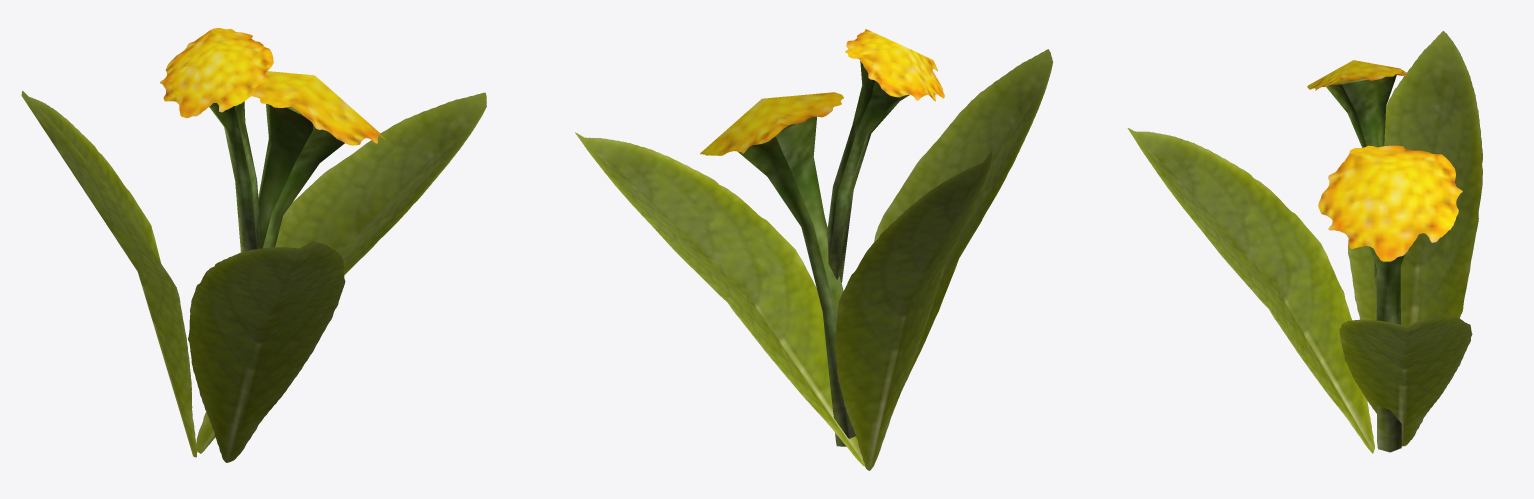
File: yellowf4.fbx
3 renders of one model, left to right at view 1: azimuth 30°, elevation 25°; view 2: azimuth 150°, elevation 25°; view 3: azimuth 270°, elevation 25°, orthographic. The views are drawn at different scales.
Visible parts, largest first — view 1: yellowflower04; view 2: yellowflower04; view 3: yellowflower04.
Part boxes in pixels (<box>): yellowflower04: <box>21,28,486,462</box>; yellowflower04: <box>575,29,1052,470</box>; yellowflower04: <box>1127,31,1482,453</box>.
Bounding box in the file's own units: 19.28 × 17.5 × 16.34.
